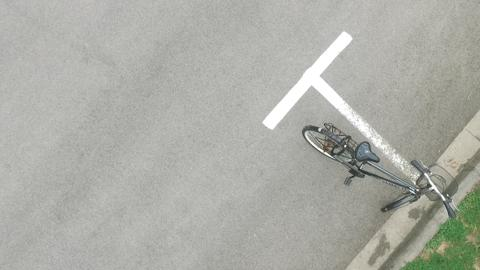bike: (293, 107, 467, 239)
